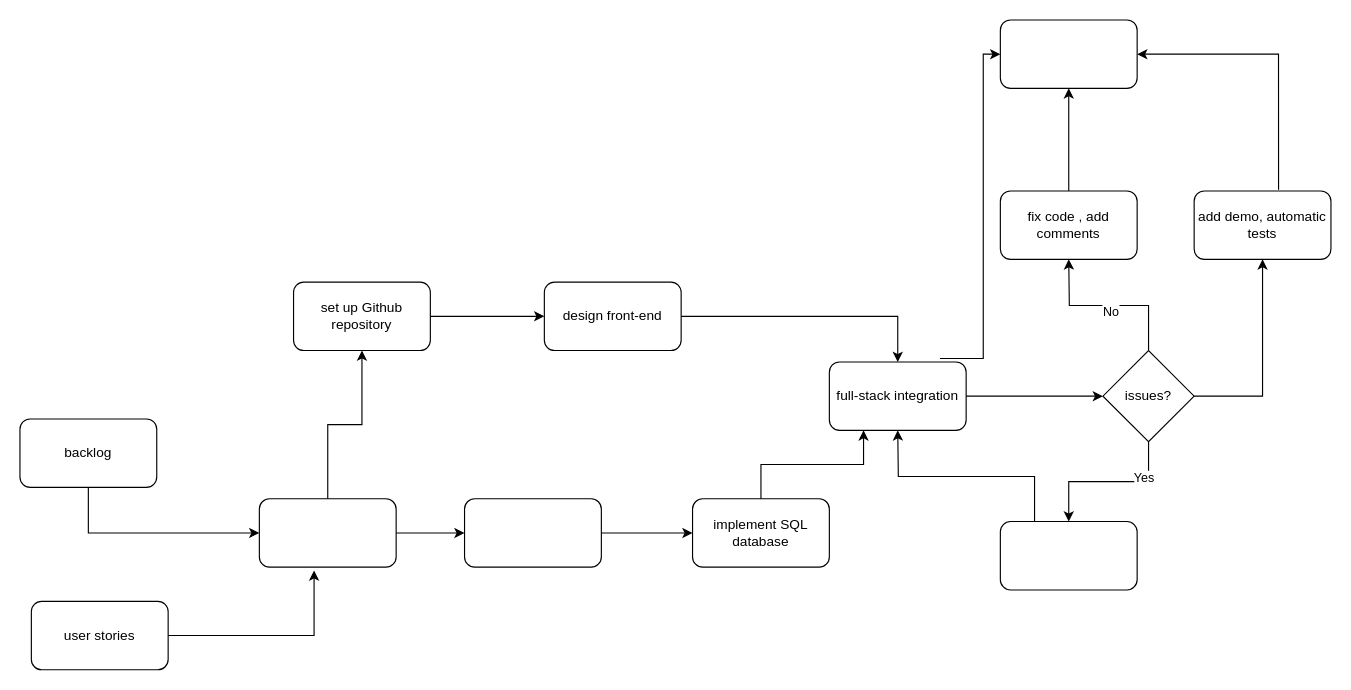
The diagram is 1351 pixels wide and 690 high, and some of its shapes have lost their labels. The shapes that lost their labels are listed below. From the top down, each one's centre as x and y in pixels, then its label:
point 1068,53: push changes to Github
point 327,532: set up Jira
point 532,532: design SQL database
point 1068,555: fix issues
